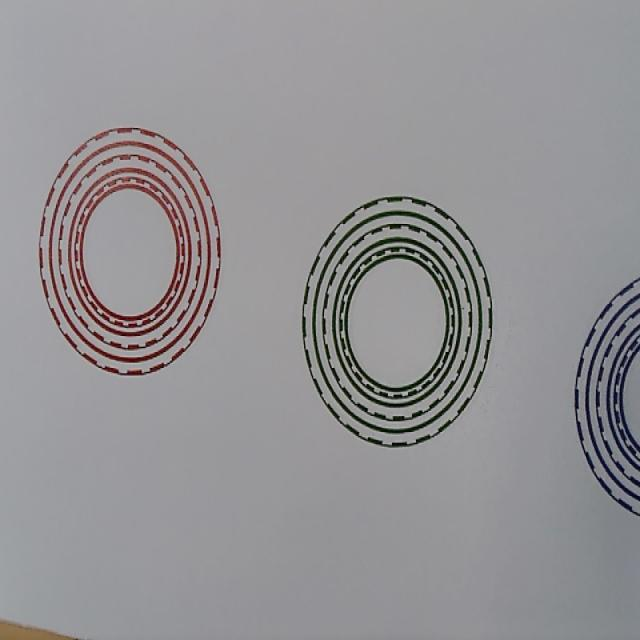g: (301, 195, 493, 449)
red-green-blue: (38, 126, 222, 376)
